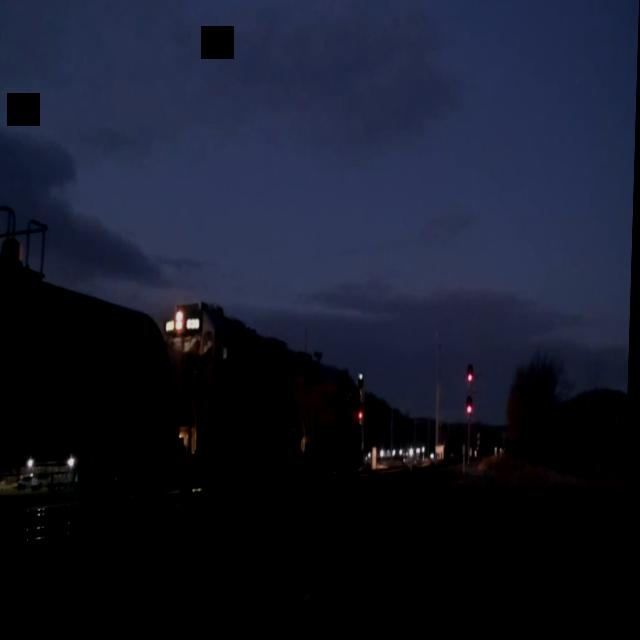locomotive: (159, 285, 311, 508)
tank: (0, 197, 191, 543)
